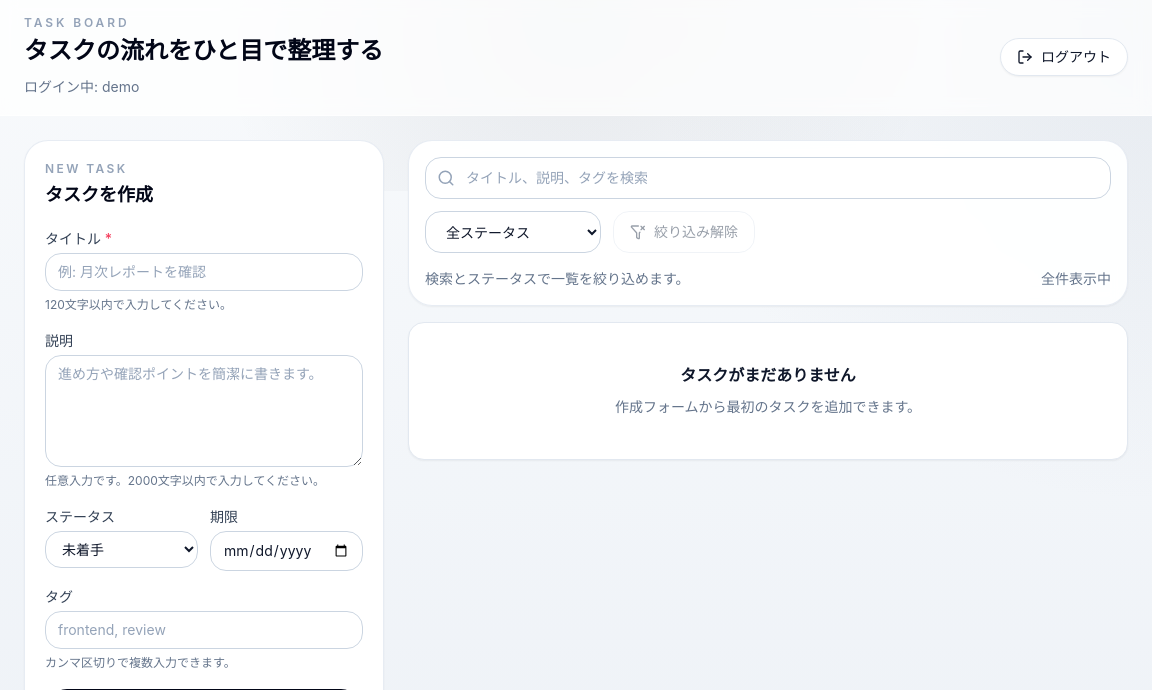
Test: TaskBoard › shows an inline notice when a new task is saved as expired
This screenshot has width=1152, height=690.
Expected: the text "タスクがまだありません" is shown, x1=680 y1=365 x2=856 y2=385
Type "Past due task" into the field labelled "タイトル *" at (204, 272), box x1=45 y1=253 x2=363 y2=291
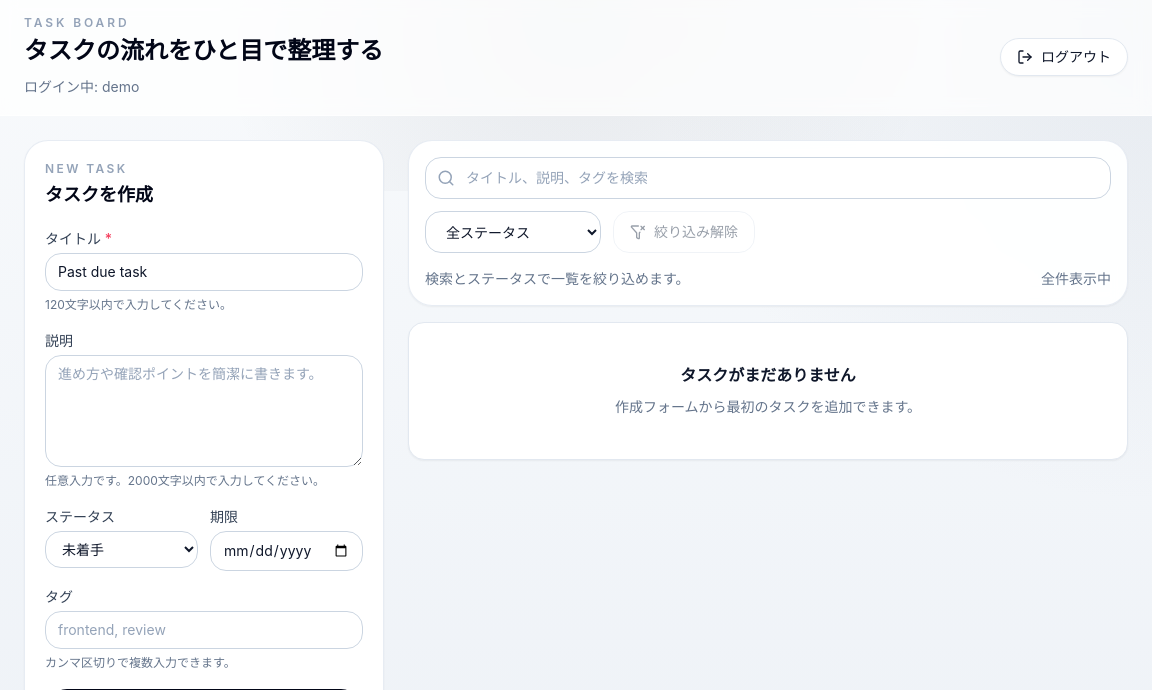
Type "2026-05-20" into the date field labelled "期限" at (286, 551), box x1=210 y1=531 x2=363 y2=571
(page scrolled)
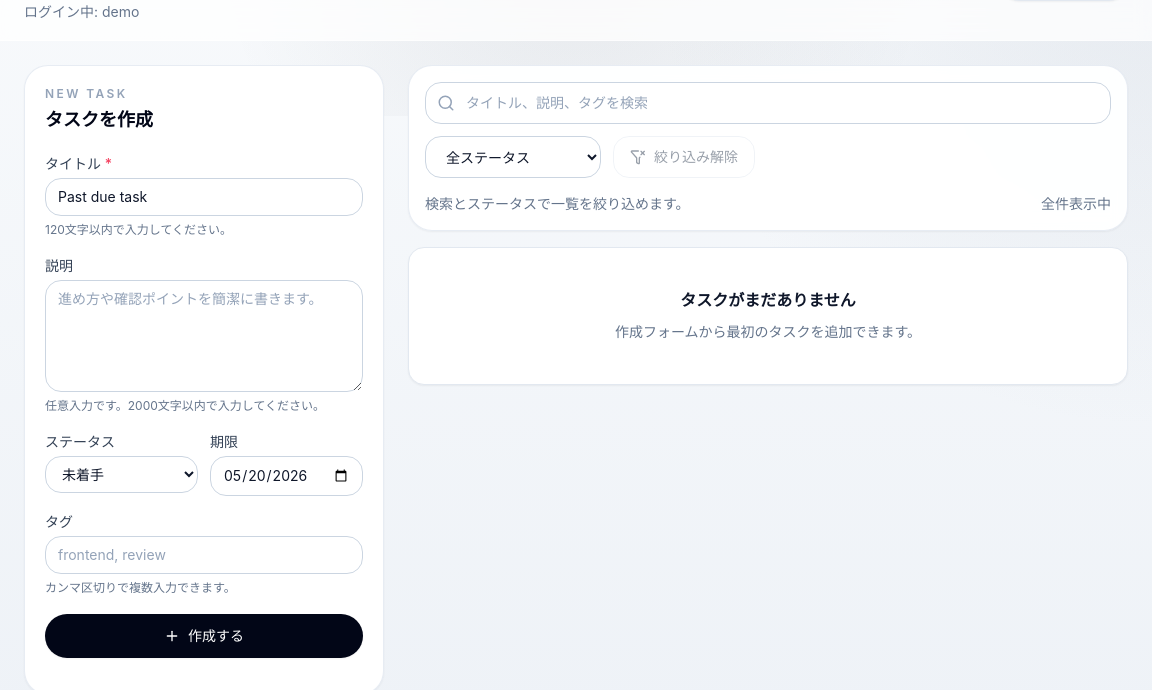
Click the button "作成する" at (204, 636), box x1=45 y1=614 x2=363 y2=658
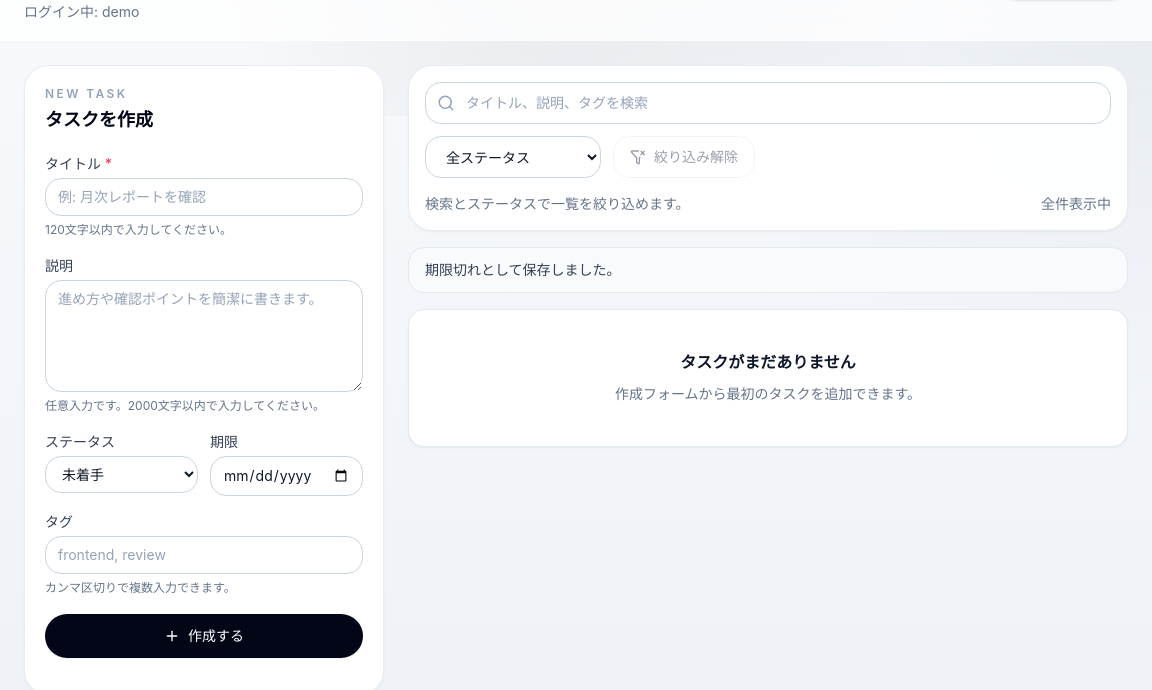
Expected: the text "期限切れとして保存しました。" is shown, x1=408 y1=247 x2=1128 y2=293
